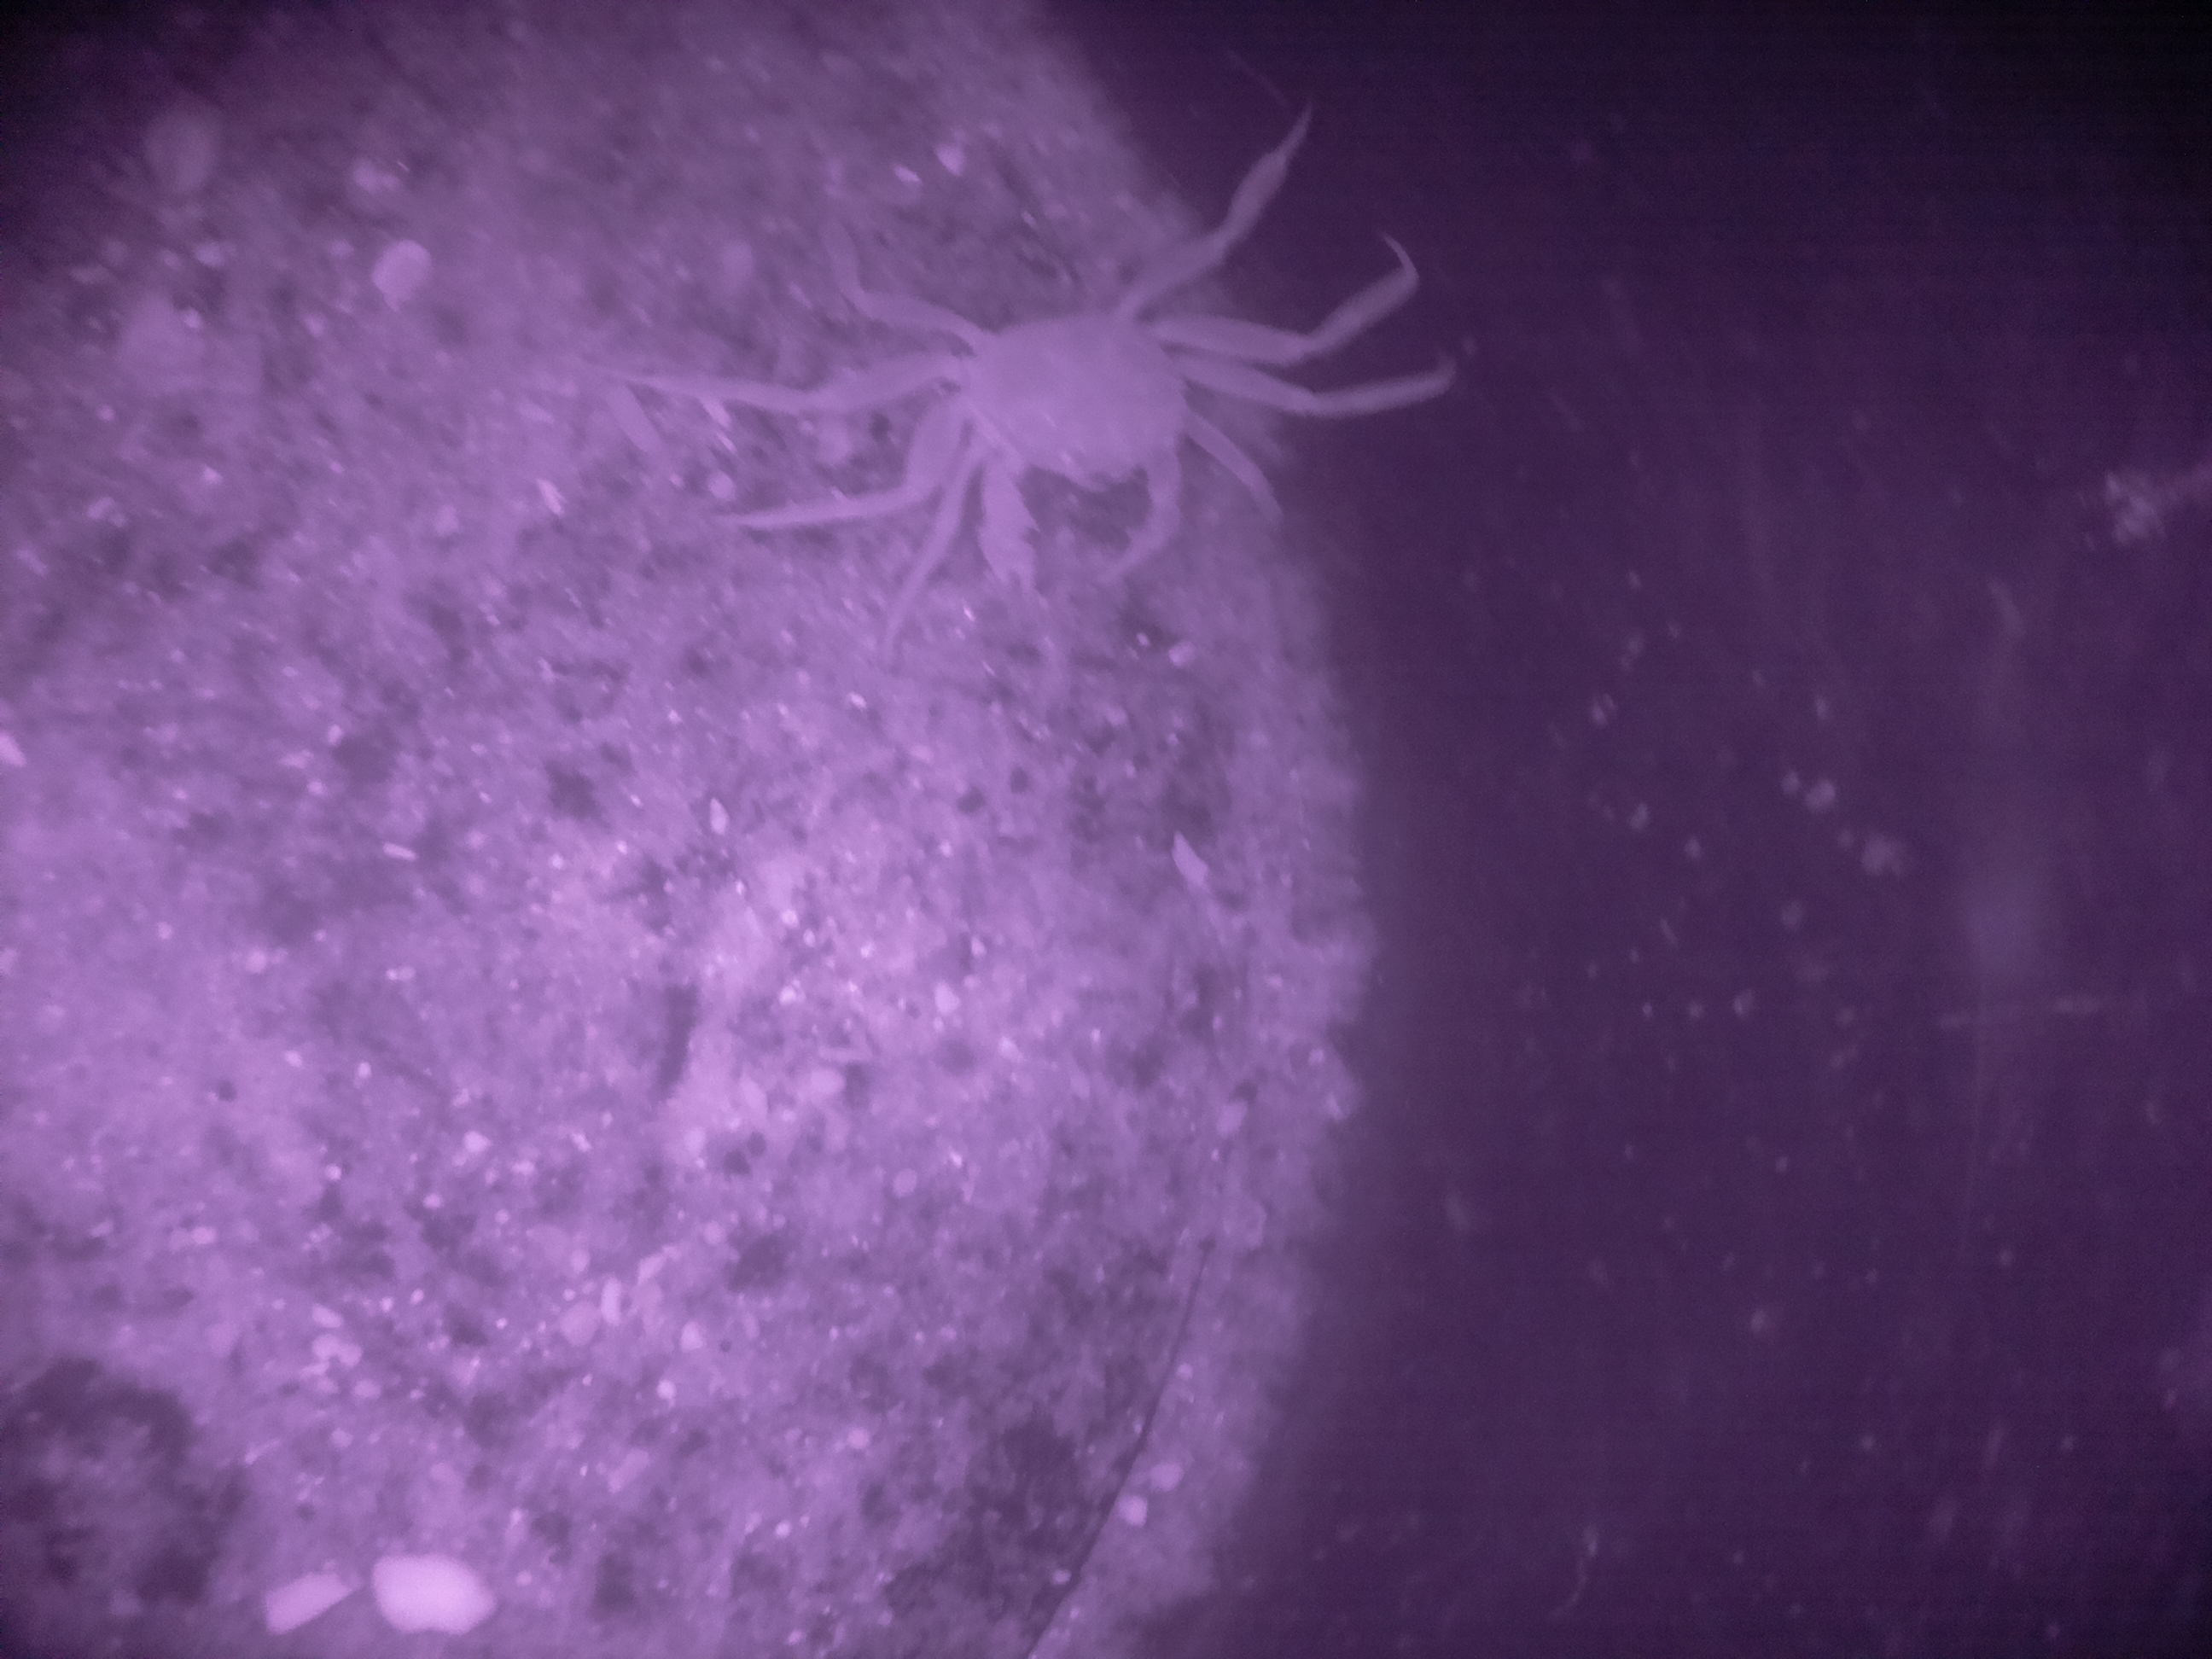Crab: (874, 223, 1301, 627)
